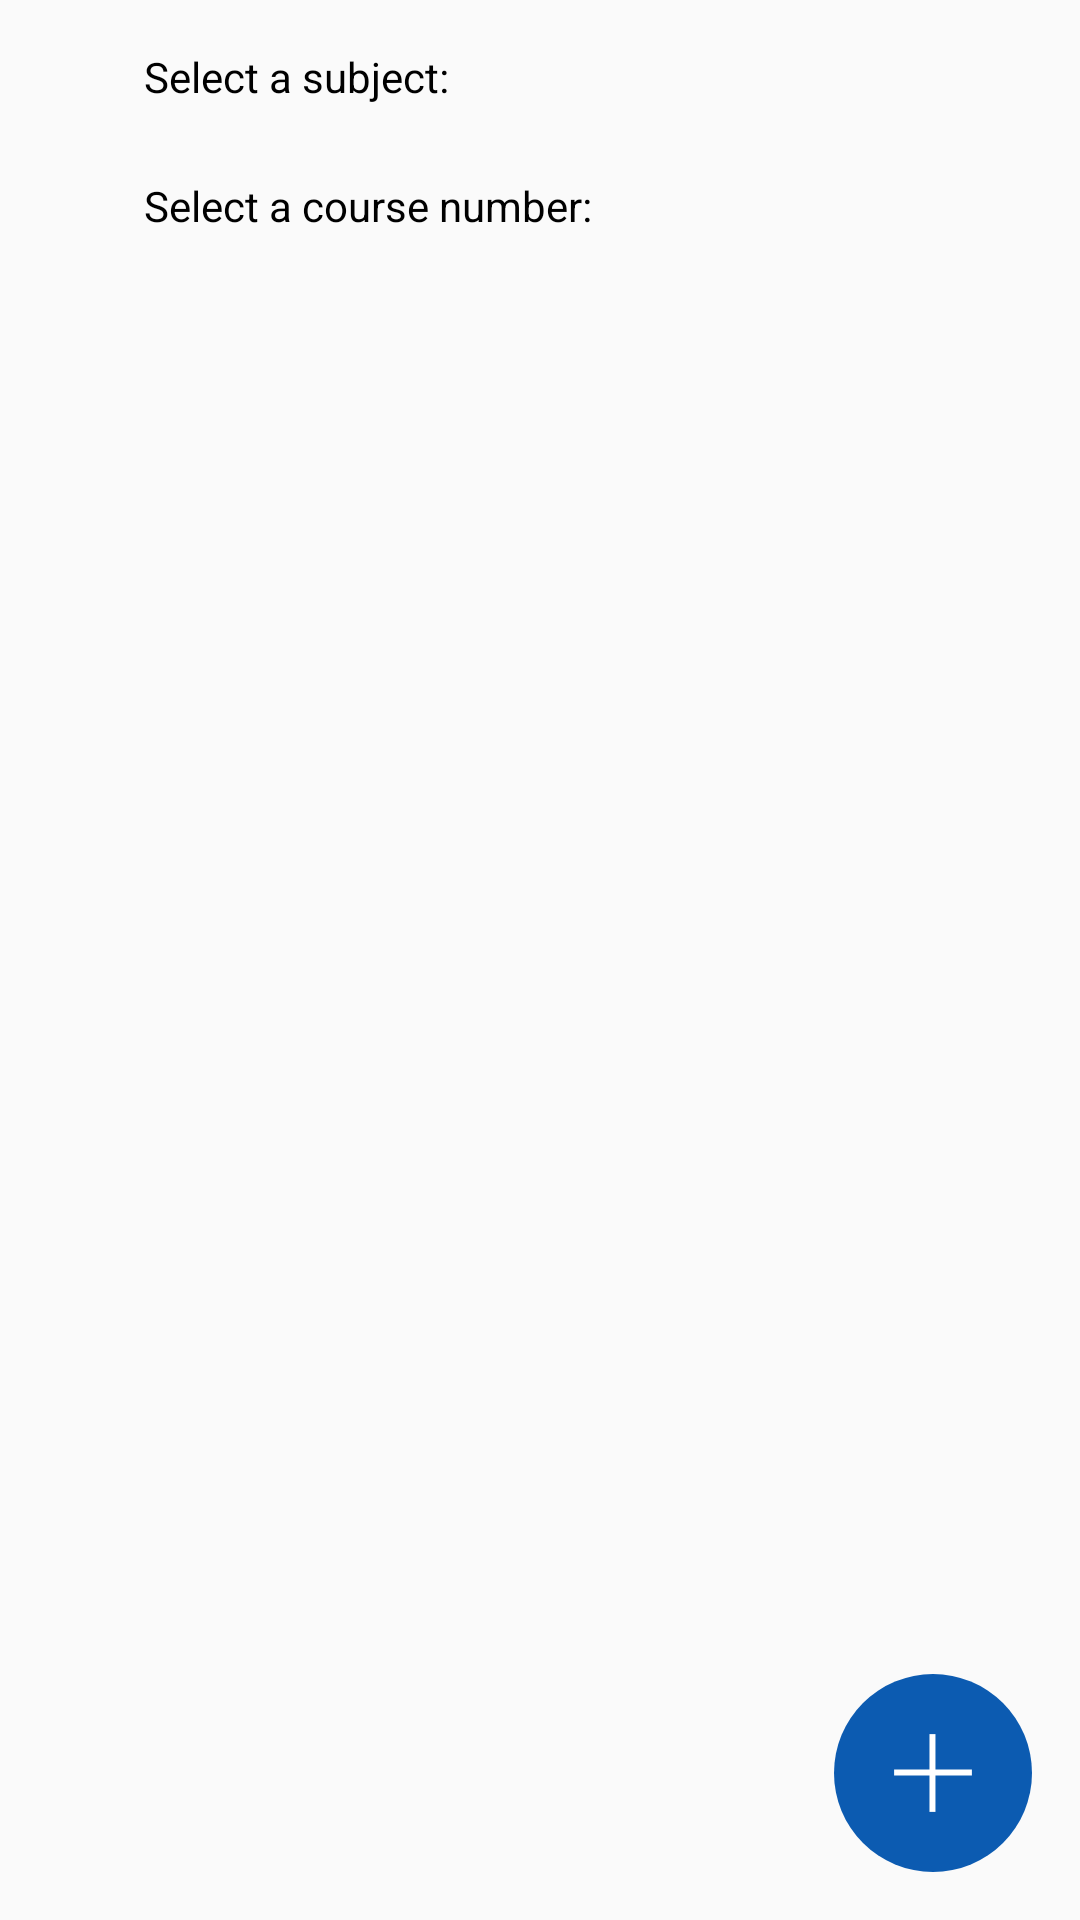

Point at icon controls on the screen. Image size 1080*1920, points as [x,y].
add group: [933,1773]
